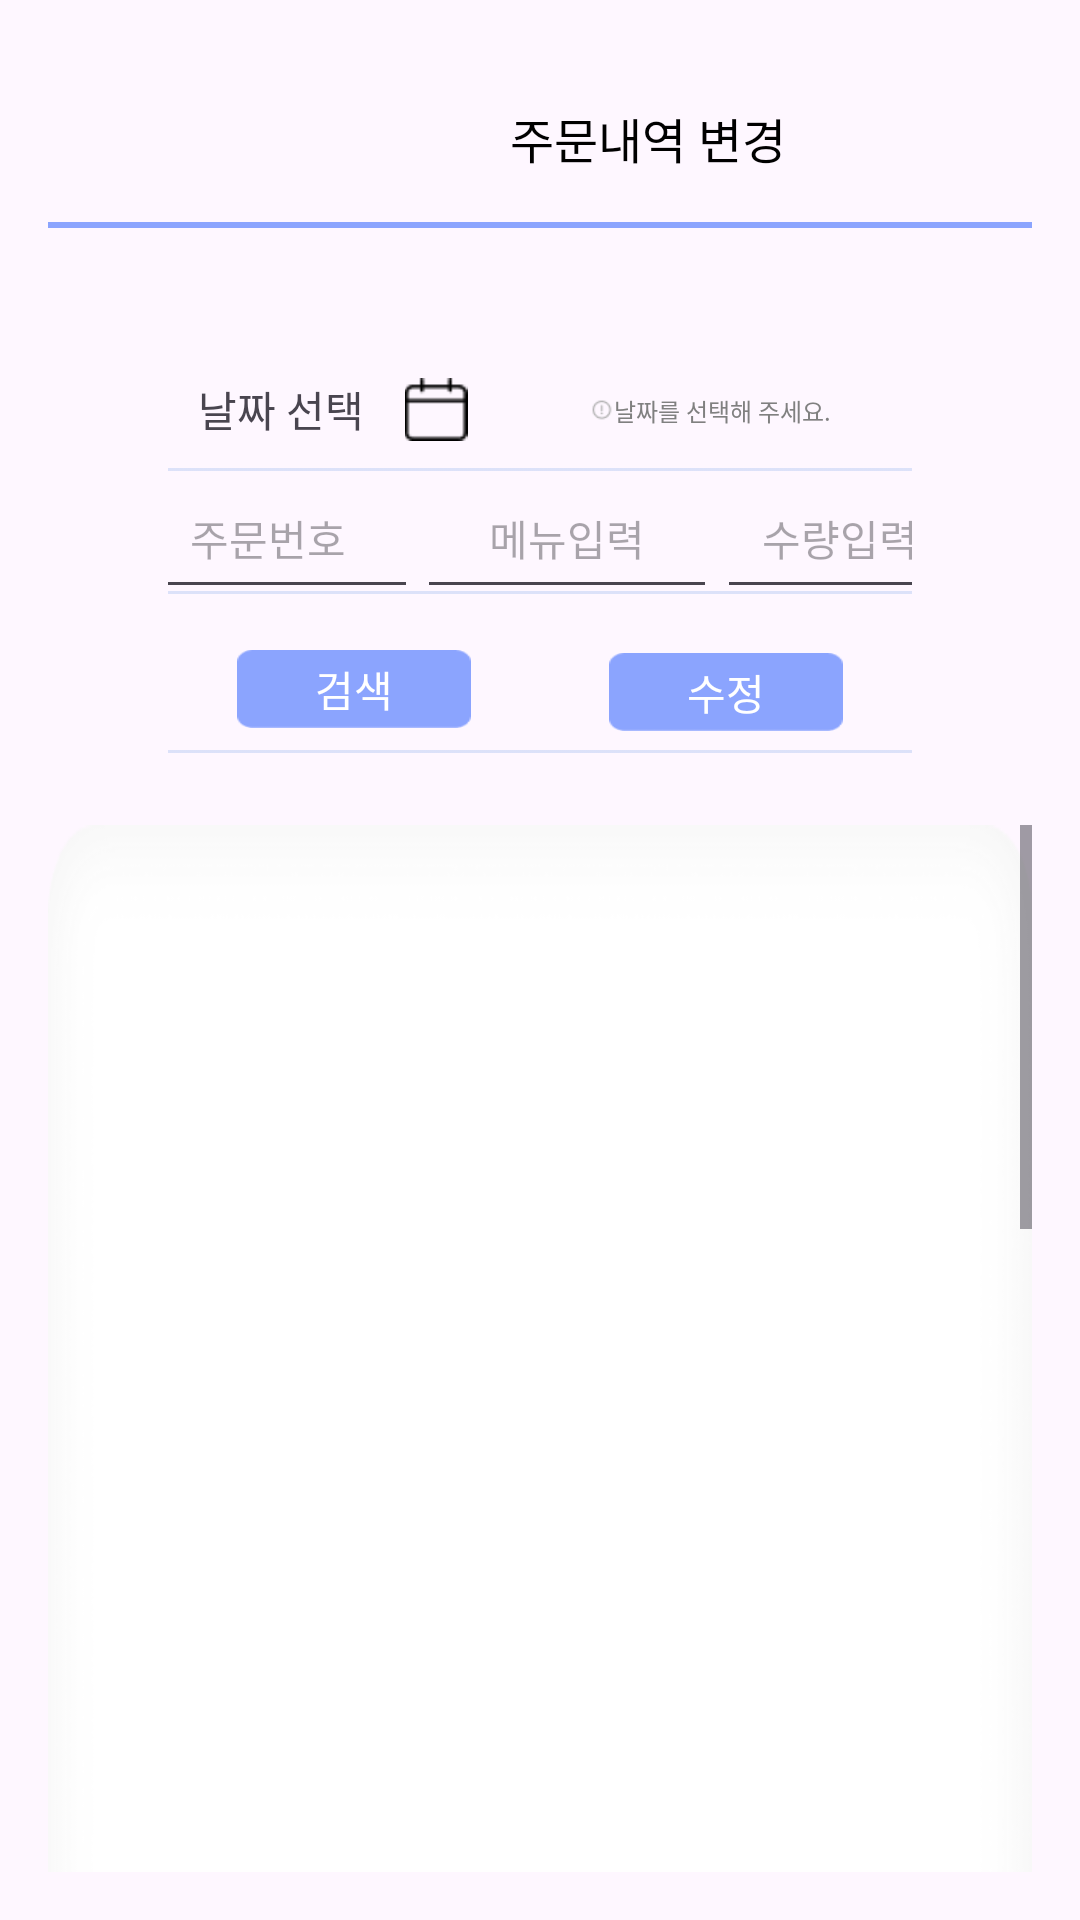

Locate icon controls on the screen. Image size 1080 x 1920, boxes as (x1, y1, x2, y2).
calendar: (405, 378, 468, 441)
